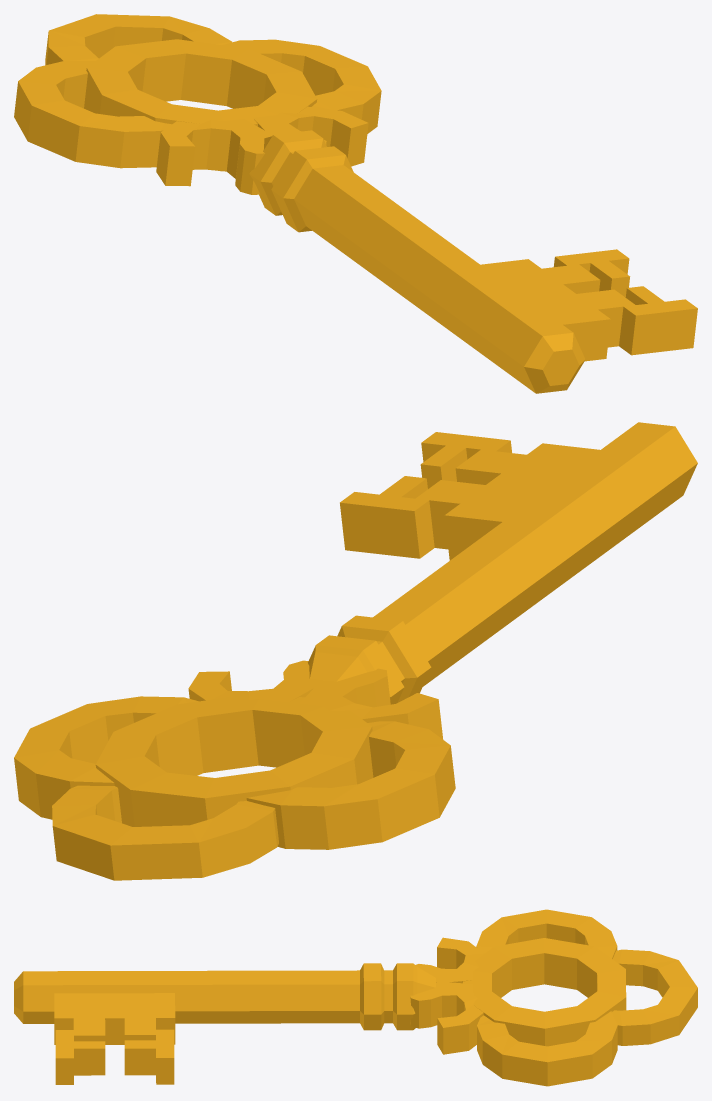
Rendered from key4.glb.
3 views of the same model, one above another, from view 1: azimuth 30°, elevation 25°; view 2: azimuth 150°, elevation 25°; view 3: azimuth 270°, elevation 25° (orthographic). The views are drawn at different scales.
Visible parts, largest first — view 1: Key4; view 2: Key4; view 3: Key4.
Part boxes in pixels (left/top/right/bottom): Key4: left=14, top=14, right=697, bottom=393; Key4: left=14, top=422, right=697, bottom=880; Key4: left=14, top=909, right=697, bottom=1086.
Bounding box in the file's own units: 42.82 × 9.46 × 101.
